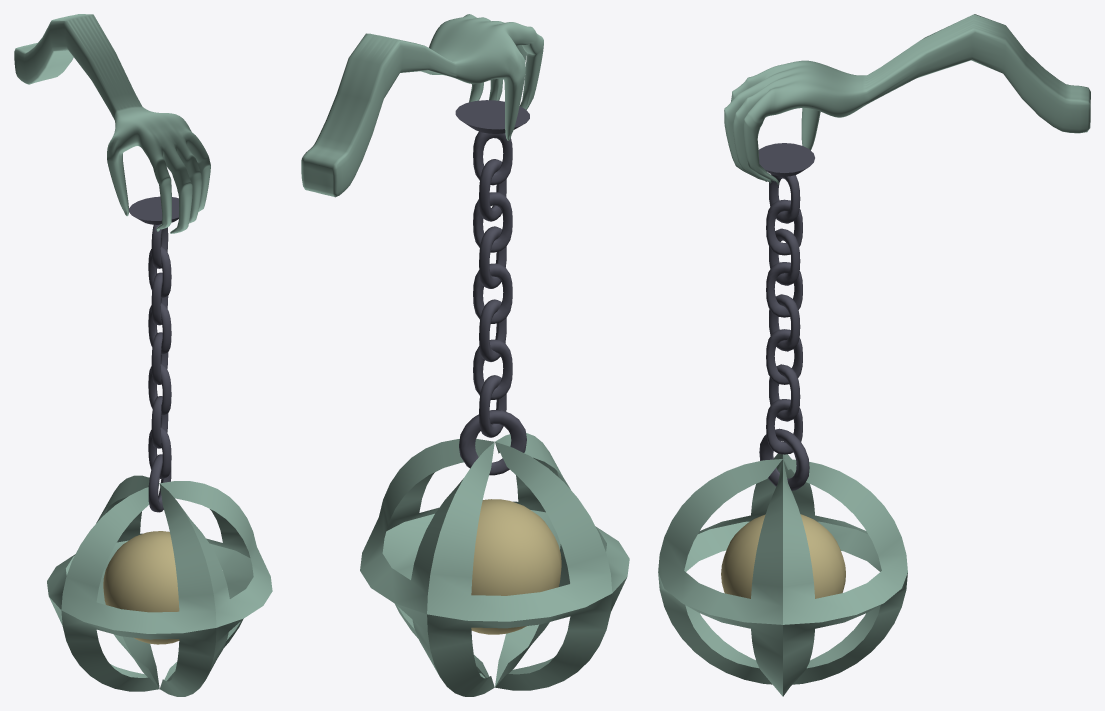
The model's file is hangingLantern.fbx.
The picture shows the model from 3 angles, left to right: view 1: azimuth 30°, elevation 25°; view 2: azimuth 150°, elevation 25°; view 3: azimuth 270°, elevation 25°; orthographic projection. The views are drawn at different scales.
Parts seen in each view (by area): view 1: pCube88; view 2: pCube88; view 3: pCube88.
Boxes of the visible parts, x1=… form: pCube88: x1=14, y1=14, x2=272, y2=696; pCube88: x1=301, y1=14, x2=629, y2=696; pCube88: x1=658, y1=14, x2=1090, y2=696.
Size of the model in its own units: 216 by 638 by 374.
